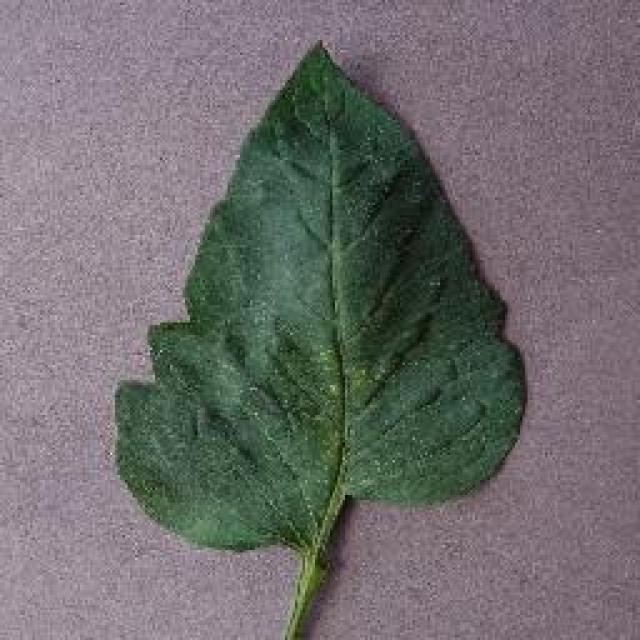Tom_Spider_mites Two-spotted_spider_mite: (204, 204, 451, 496)
